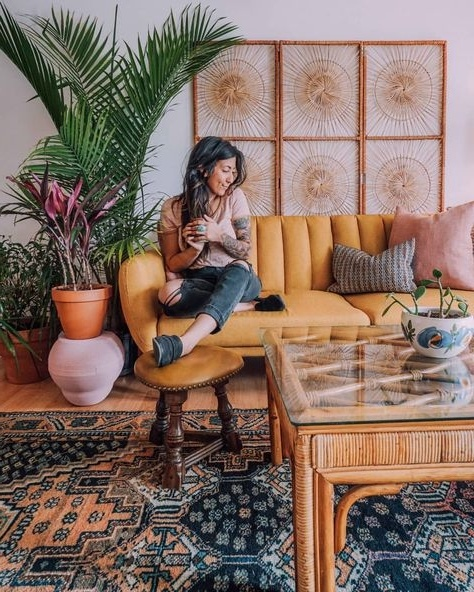not_fallen: (125, 134, 287, 370)
